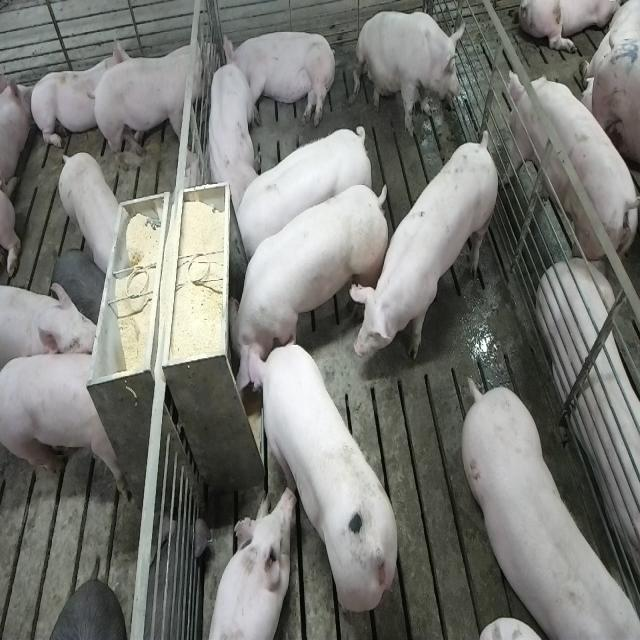Feeding: (245, 334, 399, 618), (220, 178, 387, 392)
Lateral_lying: (220, 28, 338, 128)
Sitting: (354, 8, 466, 138)
Standing: (464, 380, 640, 640), (355, 130, 503, 386), (507, 68, 640, 271), (232, 122, 372, 264), (1, 353, 132, 503), (91, 32, 215, 170), (0, 278, 101, 384), (56, 150, 125, 276), (49, 246, 106, 326)
Sternal_lying: (538, 262, 640, 604), (205, 485, 294, 640), (29, 34, 127, 154), (204, 51, 260, 208)
